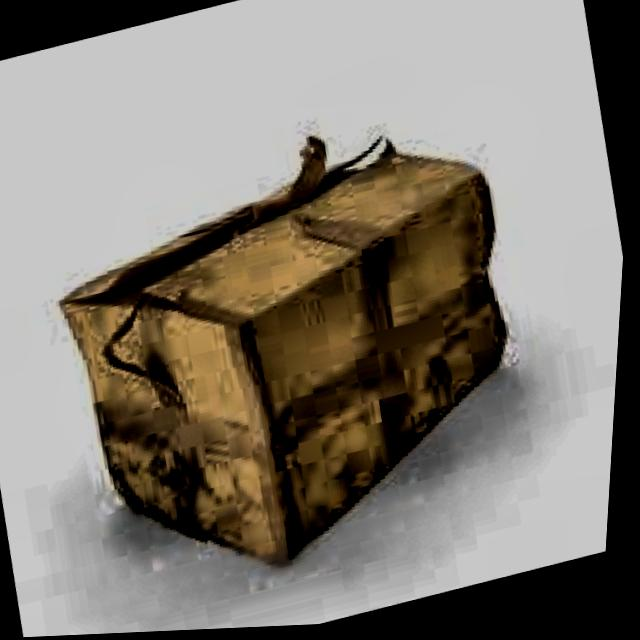Cardbox: (15, 75, 589, 629)
